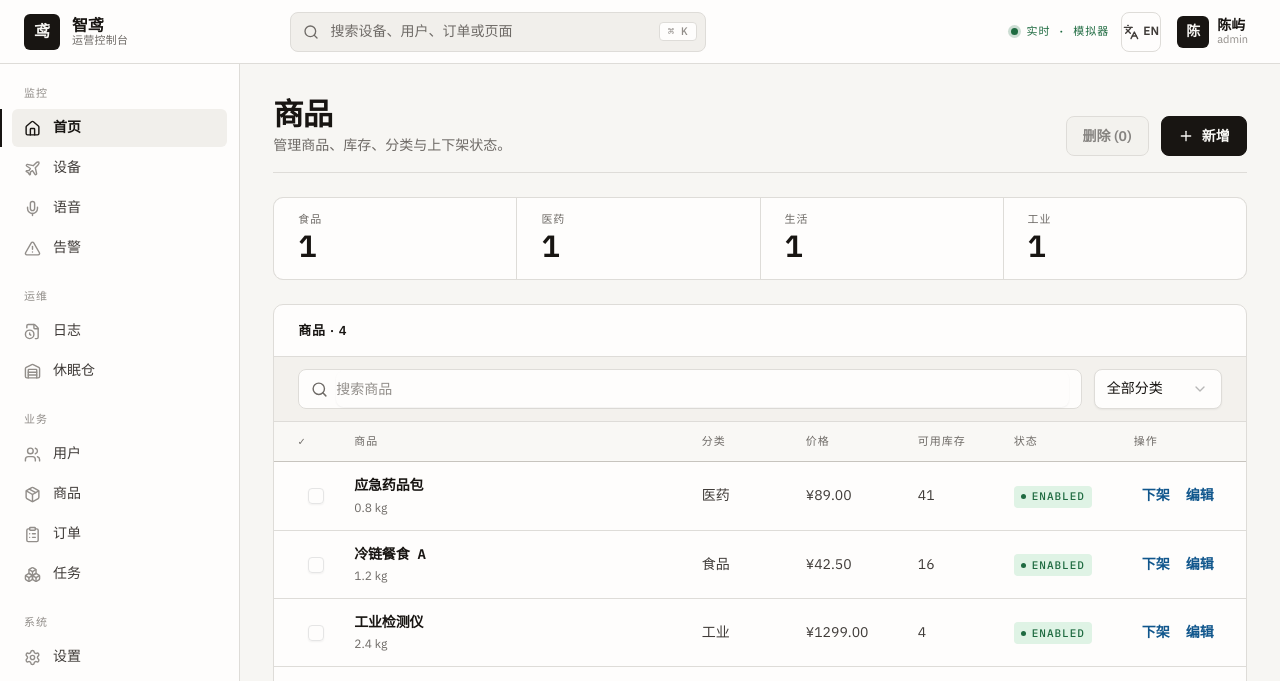
Test: GoodsView › edits an existing product in place
Click the button "编辑" in the row of "41" at (1200, 496), box [1178,478,1222,514]
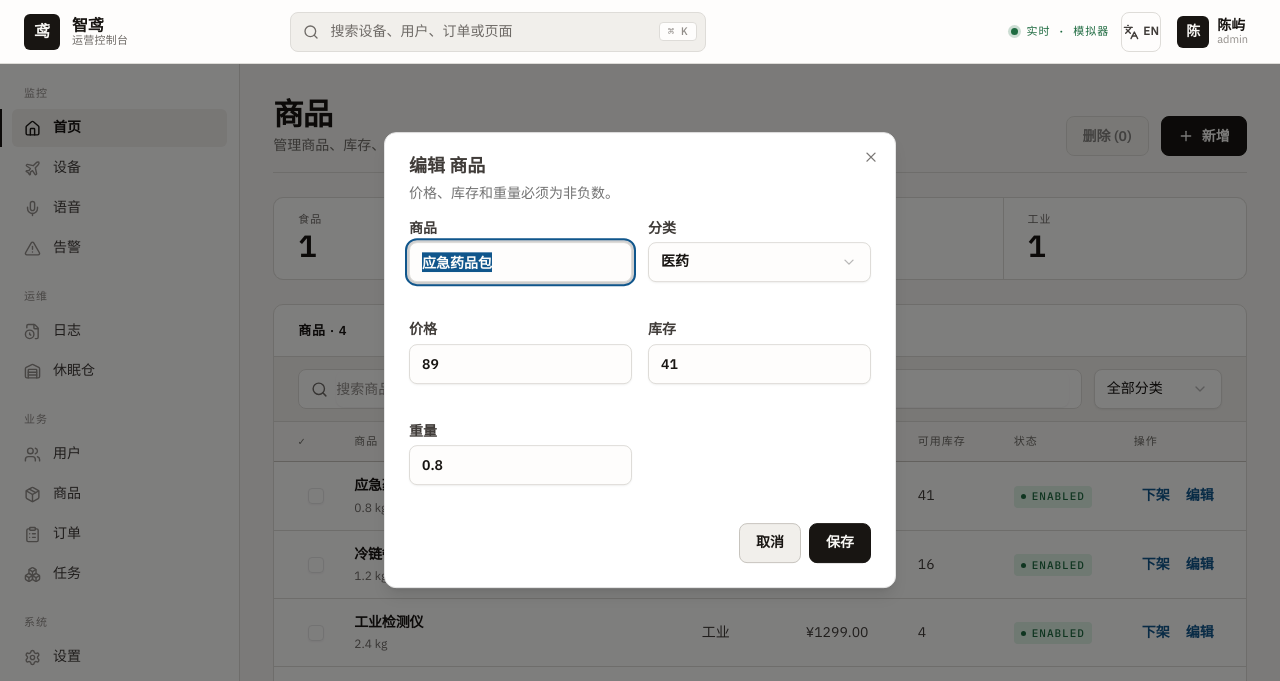
Replace the text in the field labelled "商品" with "改过的商品" at (520, 262), box [409,242,632,282]
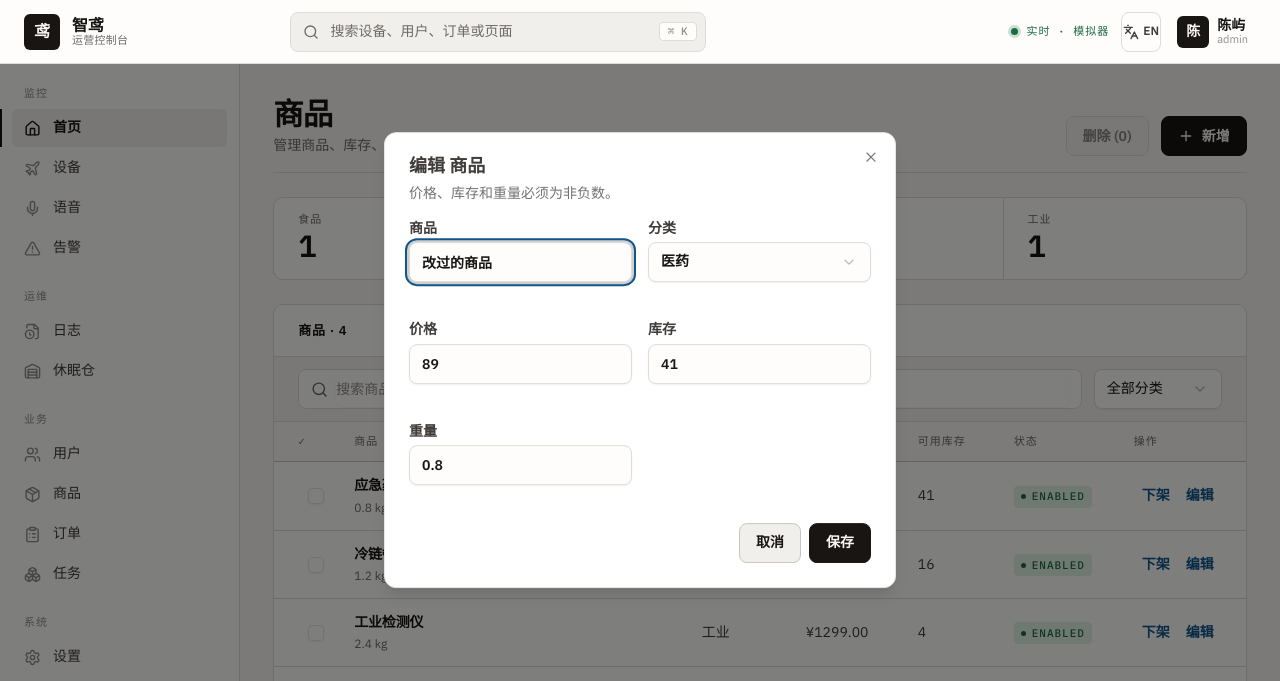
Click the button "保存" at (840, 543), box [809,523,871,563]
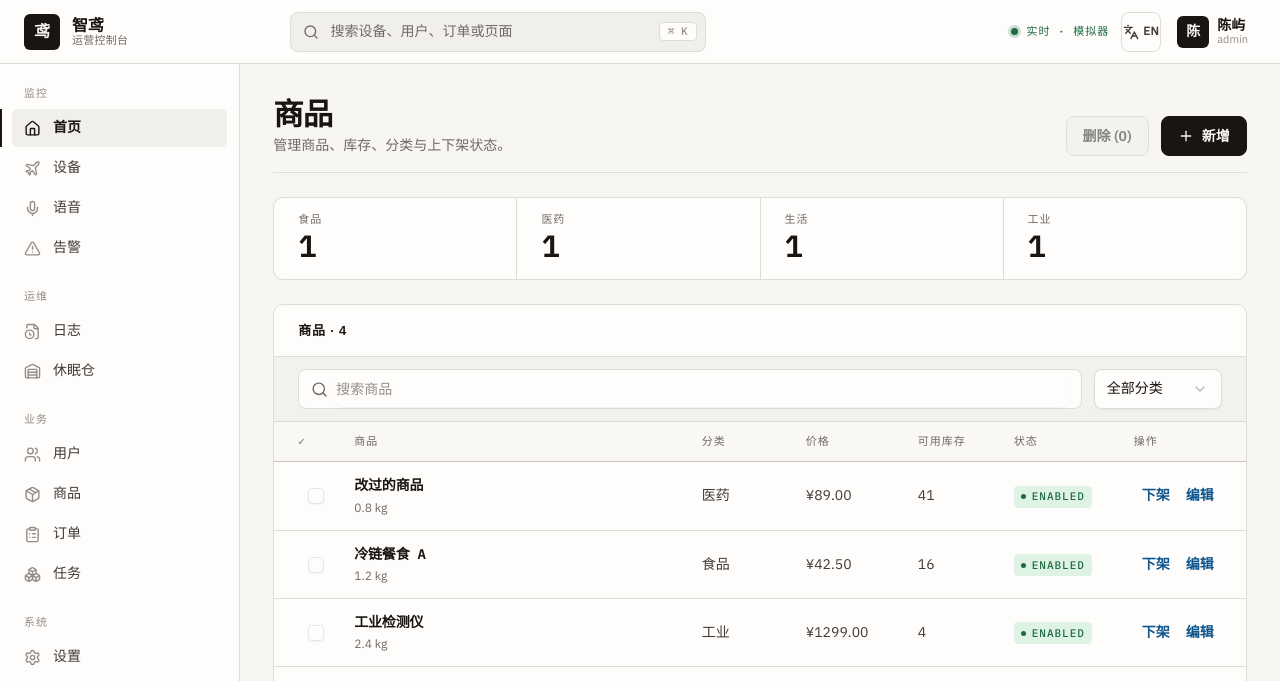
Check: the text "改过的商品" is shown, box [354,476,423,494]
